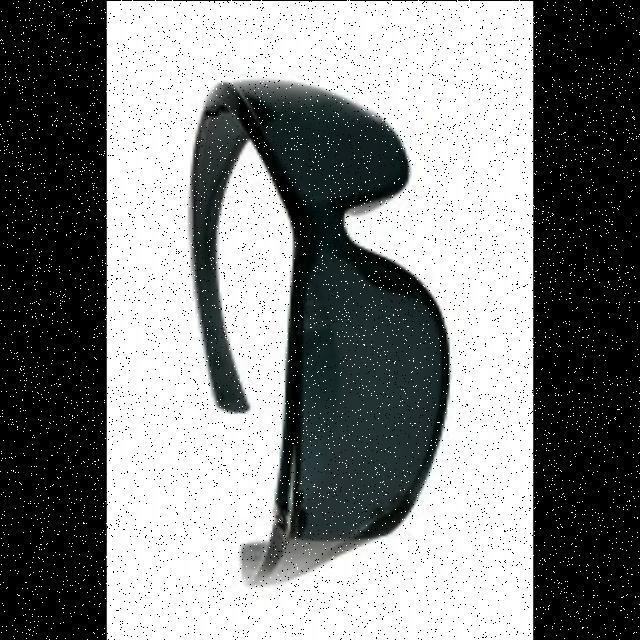goggles_on: (185, 51, 456, 588)
